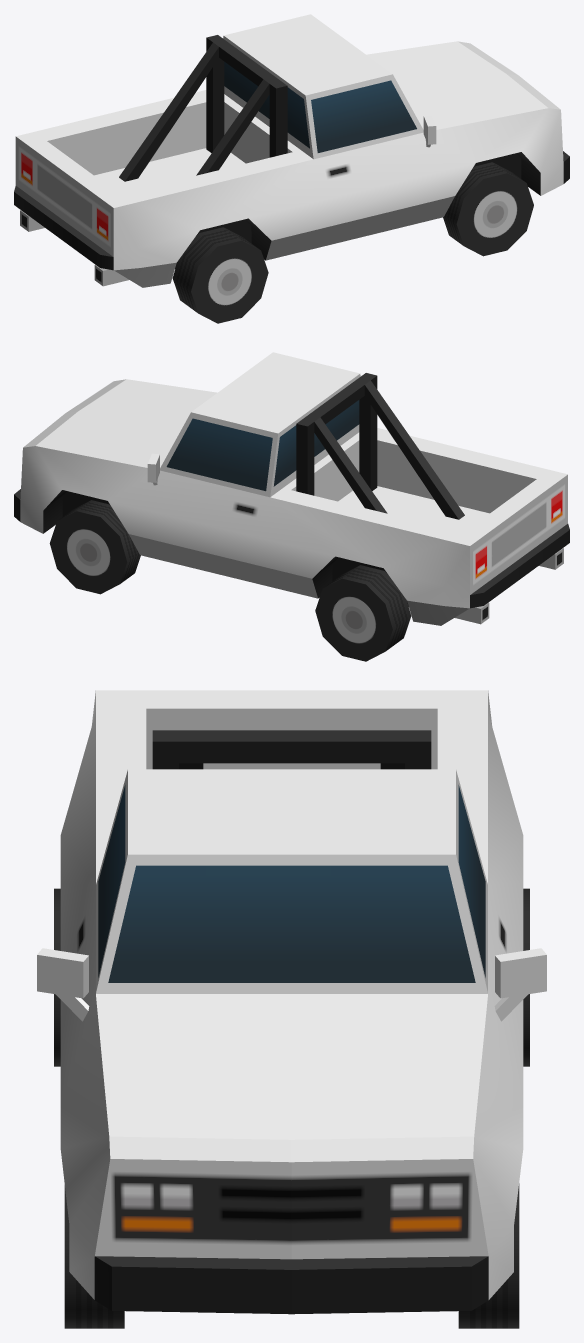
Rendered from Car_219.glb.
3 views of the same model, one above another, from view 1: azimuth 30°, elevation 25°; view 2: azimuth 150°, elevation 25°; view 3: azimuth 270°, elevation 25° (orthographic). The views are drawn at different scales.
Parts seen in each view (by area): view 1: Car_219, wheel_3_Car_219_Wheel_2R, wheel_1_Car_219_Wheel_1R; view 2: Car_219, wheel_2_Car_219_Wheel_2L, wheel_0_Car_219_Wheel_1L; view 3: Car_219, wheel_0_Car_219_Wheel_1L, wheel_1_Car_219_Wheel_1R, wheel_2_Car_219_Wheel_2L, wheel_3_Car_219_Wheel_2R.
Boxes of the visible parts, x1,y1,x2,y2 form: Car_219: (14,14,569,287); wheel_3_Car_219_Wheel_2R: (172,227,268,323); wheel_1_Car_219_Wheel_1R: (443,162,533,256); Car_219: (14,352,569,625); wheel_2_Car_219_Wheel_2L: (315,565,411,661); wheel_0_Car_219_Wheel_1L: (49,500,140,594); Car_219: (37,690,546,1314); wheel_0_Car_219_Wheel_1L: (458,1183,519,1328); wheel_1_Car_219_Wheel_1R: (64,1185,124,1328); wheel_2_Car_219_Wheel_2L: (523,888,529,1066); wheel_3_Car_219_Wheel_2R: (54,888,60,1066).
Size of the model in its own units: 4.27 by 1.71 by 2.
1 material, 1 textured.
